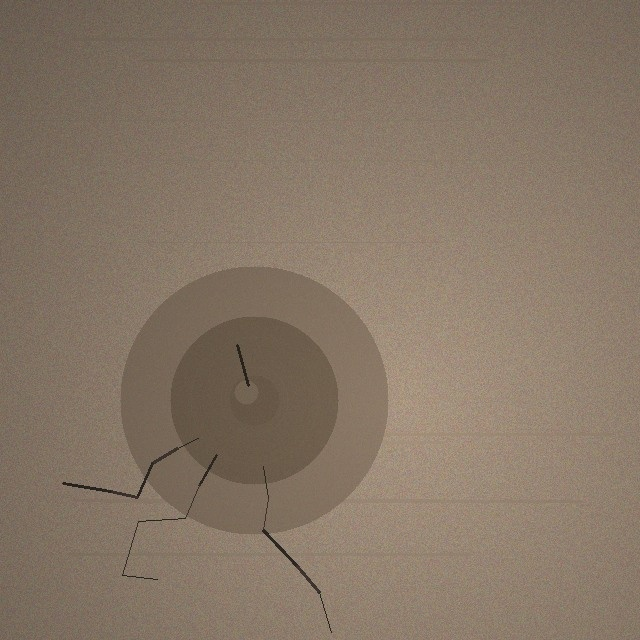crack: (120, 266, 388, 534)
